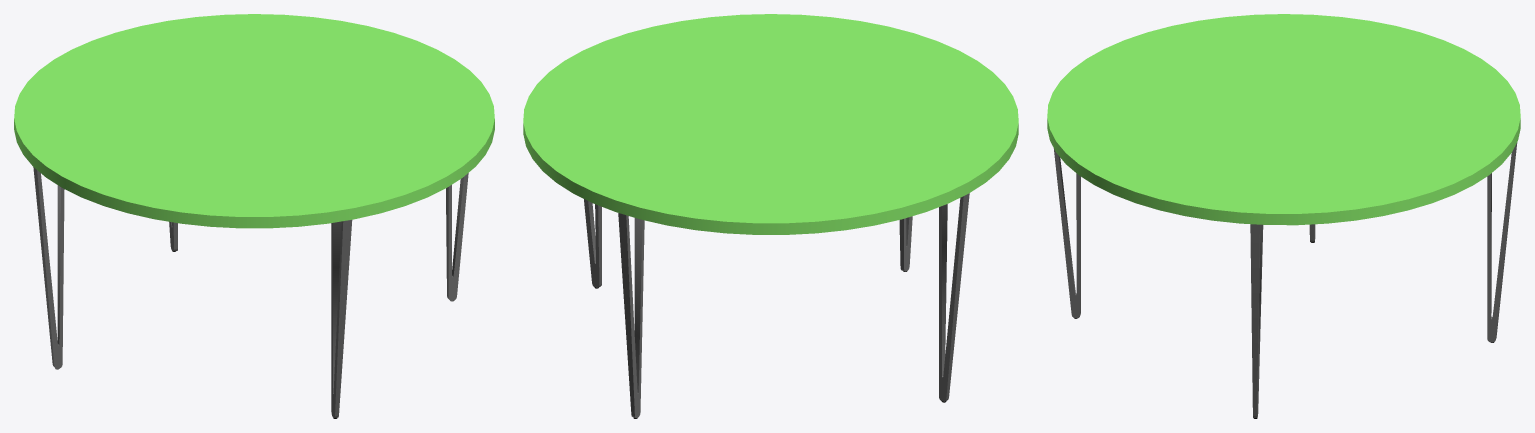
Rendered from IKEA-Vika_Manne_Table-3D.obj.
The picture shows the model from 3 angles, left to right: view 1: azimuth 30°, elevation 25°; view 2: azimuth 150°, elevation 25°; view 3: azimuth 270°, elevation 25°; orthographic projection. The views are drawn at different scales.
Visible parts, largest first — view 1: Cylinder02; view 2: Cylinder02; view 3: Cylinder02.
Part boxes in pixels (x1,y1,x2,y2): Cylinder02: (14,14,494,418); Cylinder02: (523,14,1018,418); Cylinder02: (1047,14,1520,418).
Bounding box in the file's own units: 1077 × 542 × 1077.
